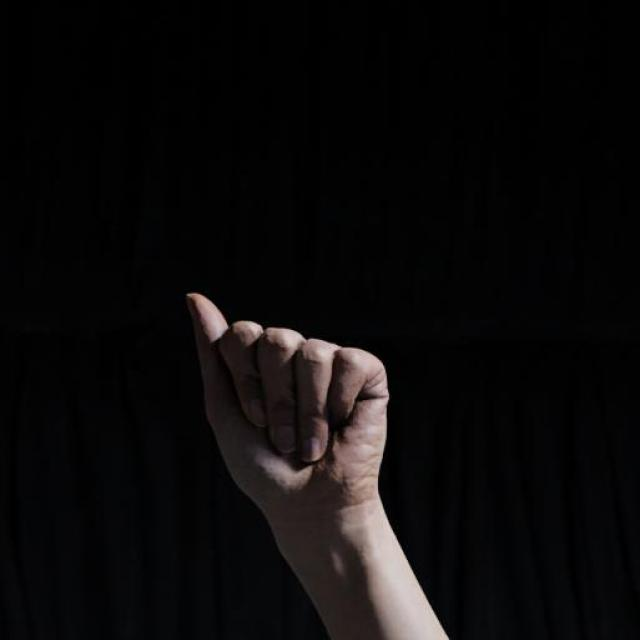A: (184, 278, 389, 516)
